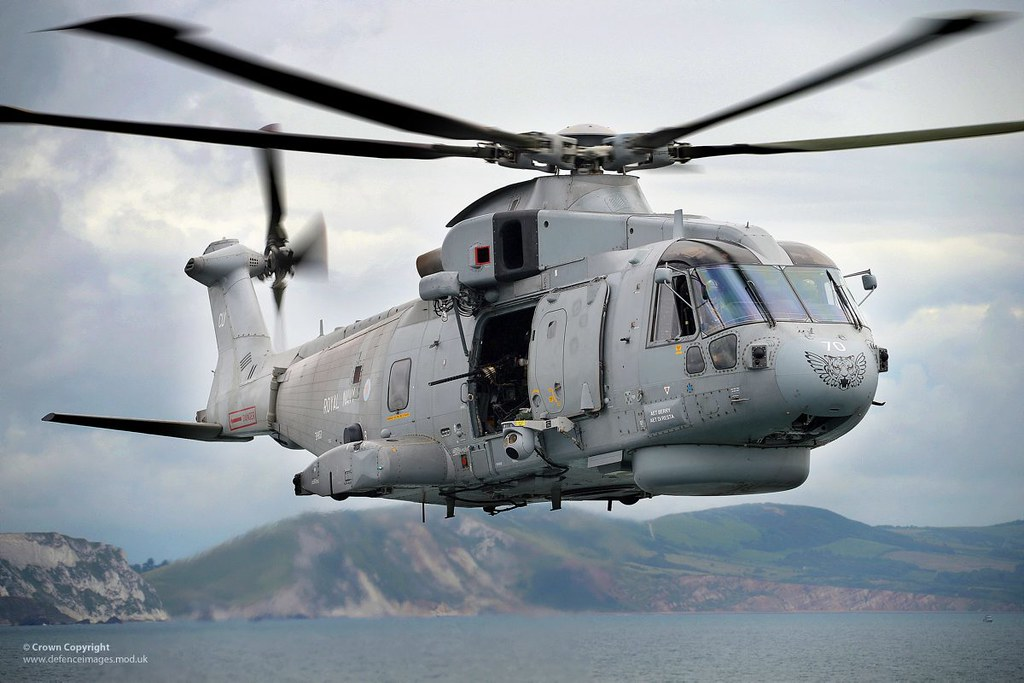Merlin: (32, 101, 892, 524)
